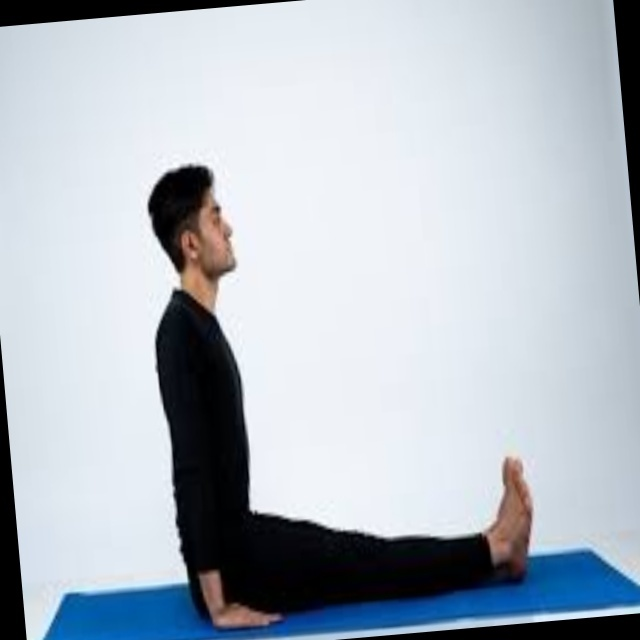Staff_Pose: (148, 163, 534, 633)
